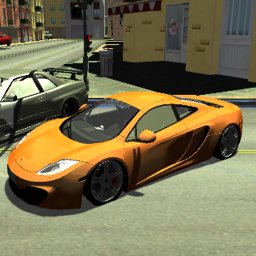car: (7, 90, 249, 213)
